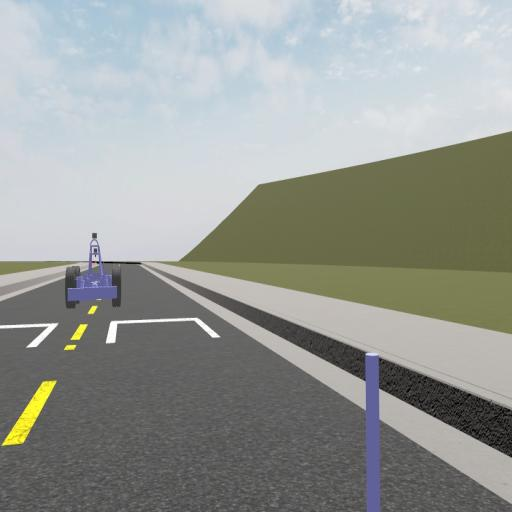ERP-42: (65, 235, 123, 307)
